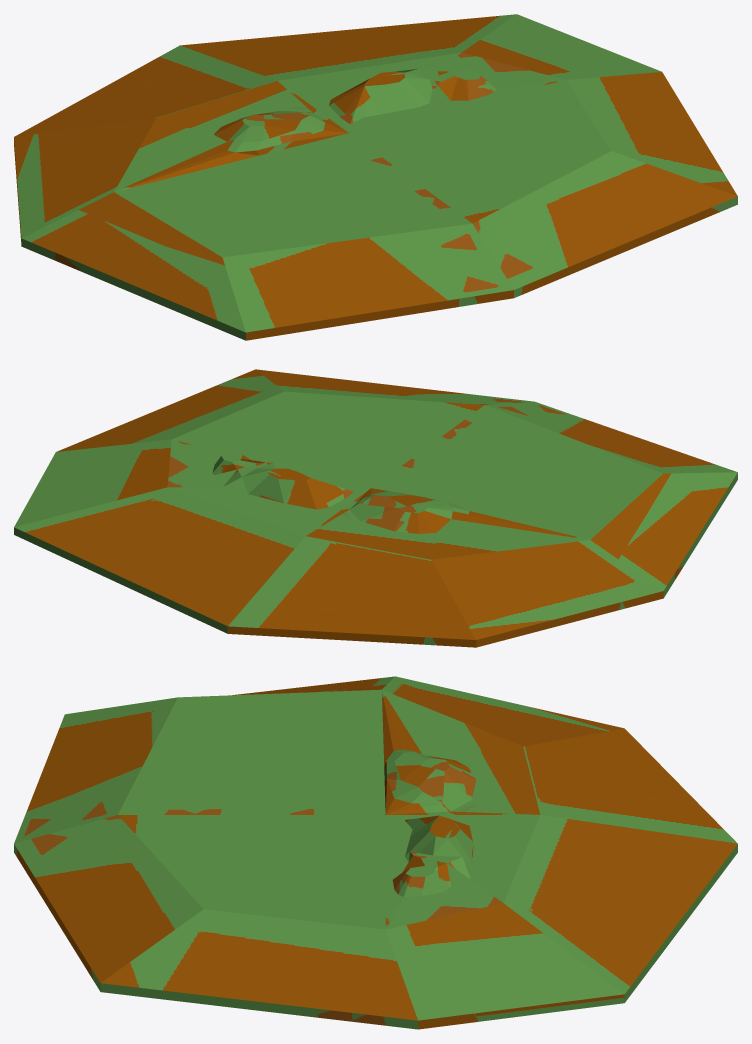
Rendered from IslandTest.fbx.
3 views of the same model, one above another, from view 1: azimuth 30°, elevation 25°; view 2: azimuth 150°, elevation 25°; view 3: azimuth 270°, elevation 25° (orthographic). The views are drawn at different scales.
Parts seen in each view (by area): view 1: island; view 2: island; view 3: island.
Boxes of the visible parts, x1,y1,x2,y2 form: island: (14, 14, 737, 340); island: (14, 369, 737, 647); island: (14, 676, 737, 1029).
Bounding box in the file's own units: 94031 × 7859 × 83580.
